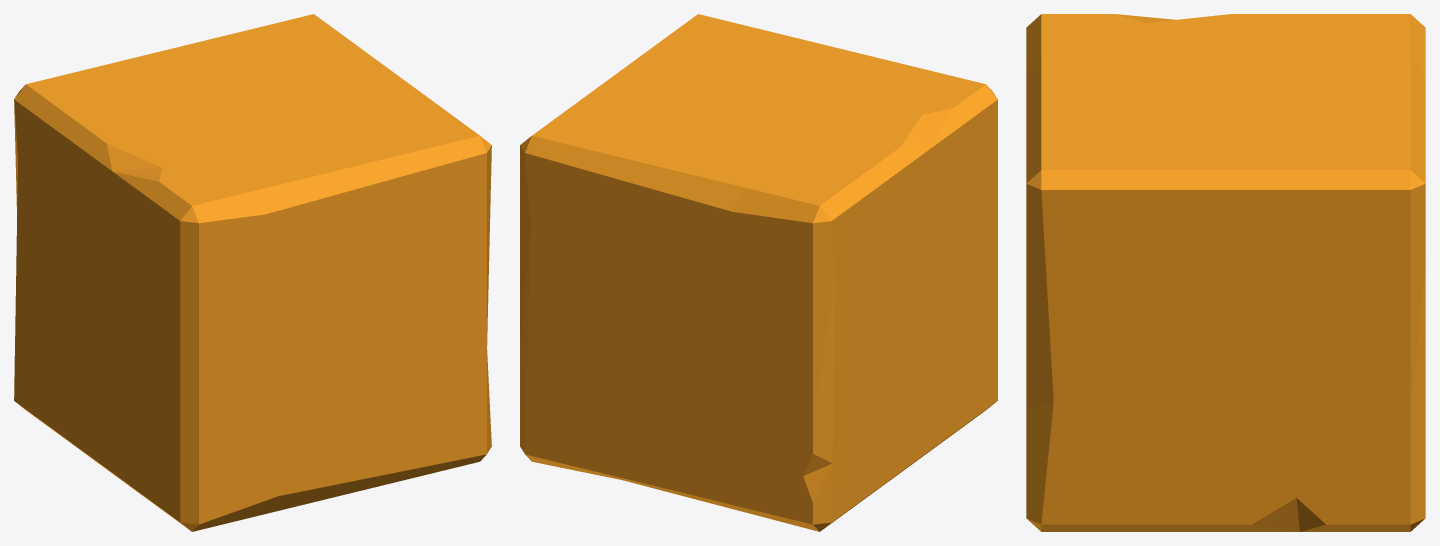
3 renders of one model, left to right at view 1: azimuth 30°, elevation 25°; view 2: azimuth 150°, elevation 25°; view 3: azimuth 270°, elevation 25°, orthographic. The views are drawn at different scales.
Visible parts, largest first — view 1: SM_Primitive_Cube_01P; view 2: SM_Primitive_Cube_01P; view 3: SM_Primitive_Cube_01P.
Part boxes in pixels (x1,y1,x2,y2): SM_Primitive_Cube_01P: (14, 14, 491, 531); SM_Primitive_Cube_01P: (520, 14, 997, 531); SM_Primitive_Cube_01P: (1026, 14, 1425, 531).
Bounding box in the file's own units: 100 × 100 × 100.
